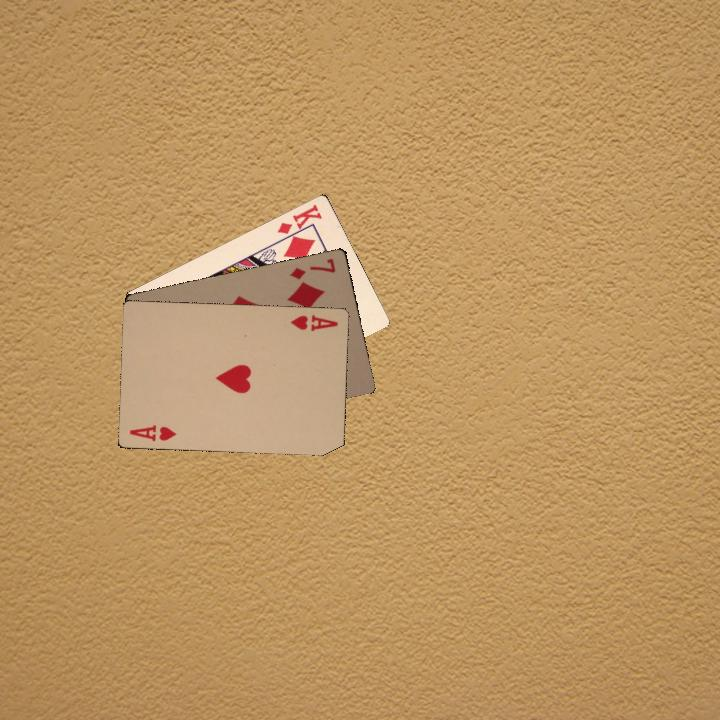7d: (286, 254, 338, 282)
Ah: (287, 310, 340, 333), (125, 421, 179, 443)
Kd: (274, 200, 324, 243)
